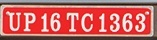character: (22, 12, 36, 31), (66, 12, 79, 32), (80, 12, 93, 32), (8, 12, 21, 31), (49, 12, 61, 32), (121, 12, 133, 32), (134, 12, 145, 33), (109, 13, 120, 32), (98, 12, 106, 33), (40, 12, 48, 32)
